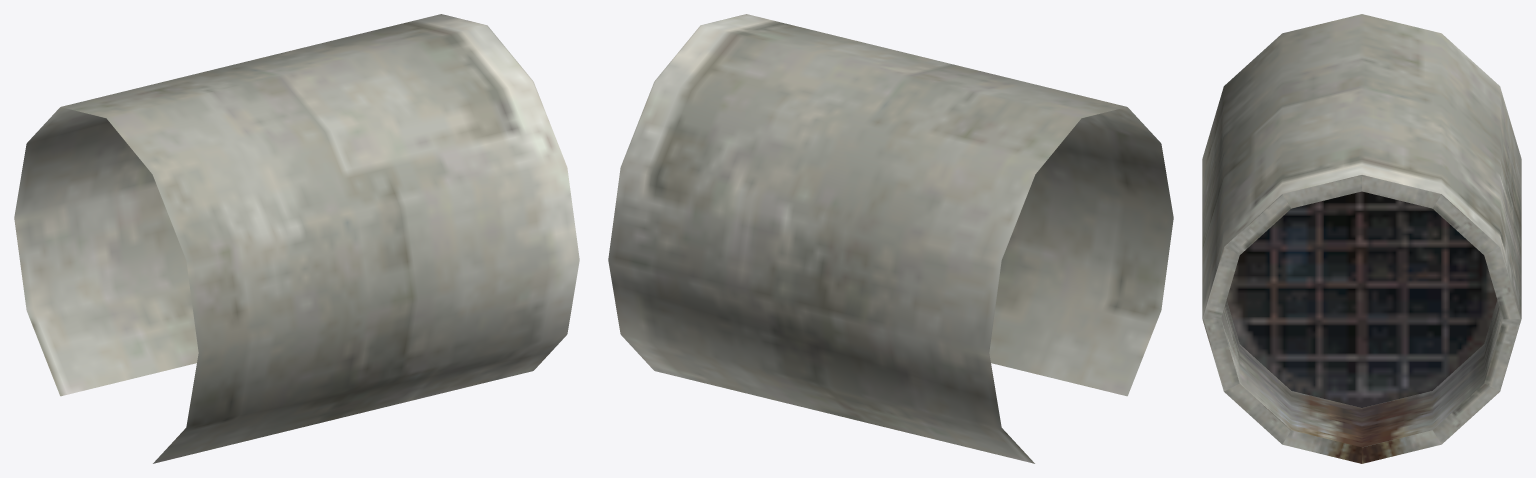
Rendered from Environment - Prop - Drain Pipe - PMDrnPipe.glb.
3 renders of one model, left to right at view 1: azimuth 30°, elevation 25°; view 2: azimuth 150°, elevation 25°; view 3: azimuth 270°, elevation 25°, orthographic. The views are drawn at different scales.
Parts seen in each view (by area): view 1: PMDRNPIPE; view 2: PMDRNPIPE; view 3: PMDRNPIPE.
Part boxes in pixels (x1,y1,x2,y2): PMDRNPIPE: [14, 14, 579, 463]; PMDRNPIPE: [608, 14, 1173, 463]; PMDRNPIPE: [1202, 14, 1521, 463].
Size of the model in its own units: 51.17 by 42.89 by 42.89.
Materials: 1 (1 with a texture image).
